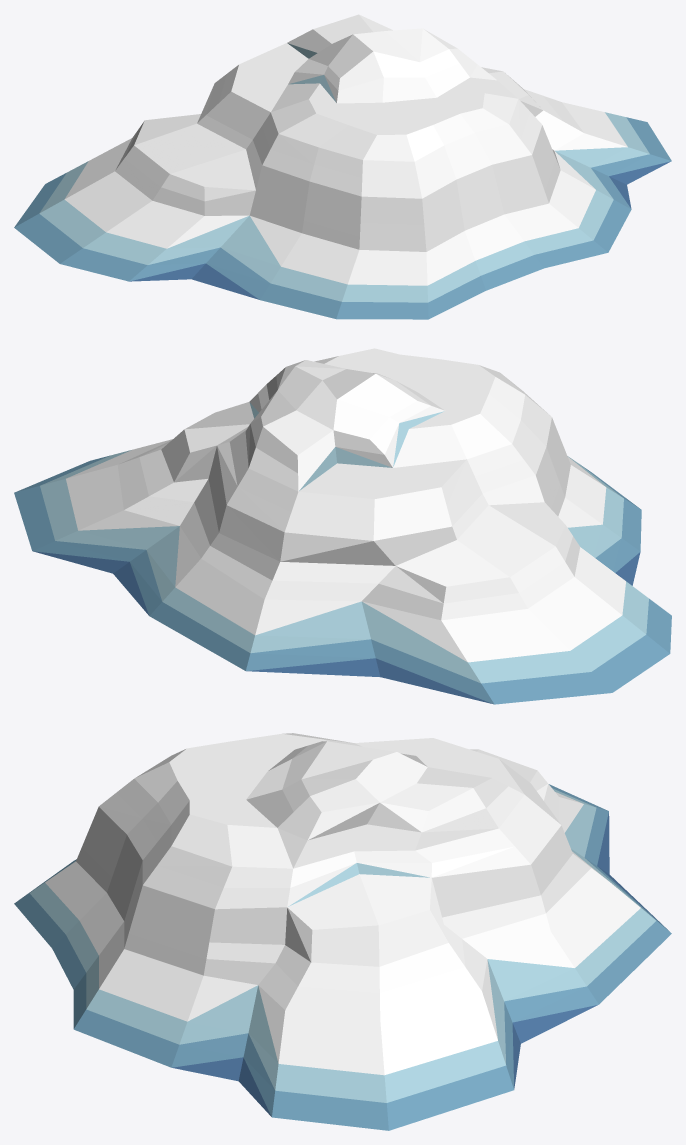
The model's file is terrainIslandLarge.fbx.
3 views of the same model, one above another, from view 1: azimuth 30°, elevation 25°; view 2: azimuth 150°, elevation 25°; view 3: azimuth 270°, elevation 25° (orthographic). The views are drawn at different scales.
Parts seen in each view (by area): view 1: bottom, top; view 2: bottom, top; view 3: bottom, top.
Boxes of the visible parts, x1=… form: bottom: x1=14, y1=43, x2=671, y2=319; top: x1=124, y1=14, x2=542, y2=201; bottom: x1=14, y1=376, x2=671, y2=704; top: x1=161, y1=348, x2=572, y2=603; bottom: x1=14, y1=771, x2=671, y2=1130; top: x1=99, y1=733, x2=572, y2=966.
Size of the model in its own units: 5641 by 1482 by 4319.
2 materials, 2 textured.
